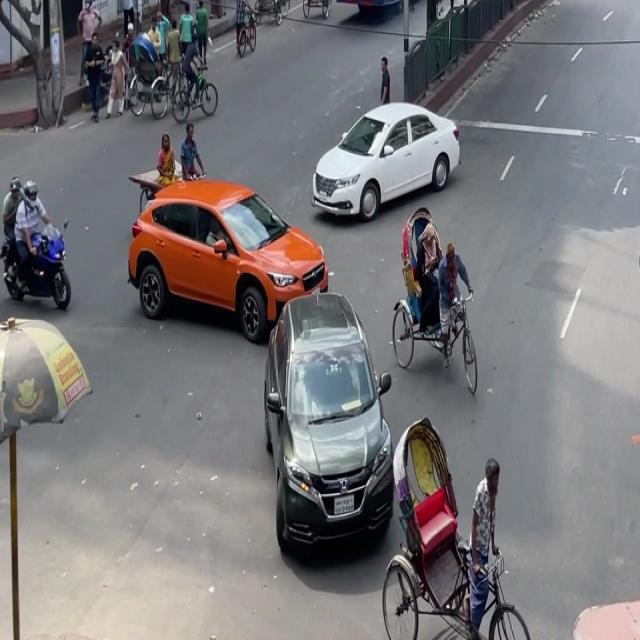bicycle: (223, 0, 261, 69), (636, 173, 640, 320)
car: (248, 274, 407, 564), (121, 170, 333, 358), (307, 76, 462, 228)
motorbike: (0, 169, 83, 323)
